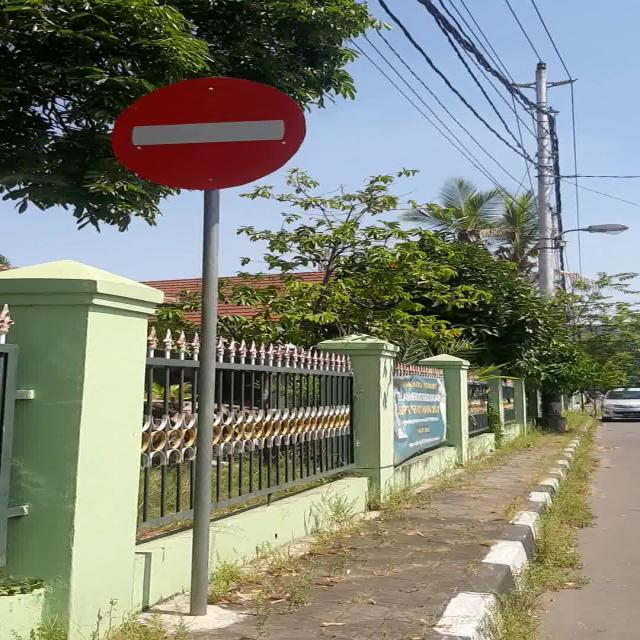Dilarang Masuk: (110, 77, 306, 190)
